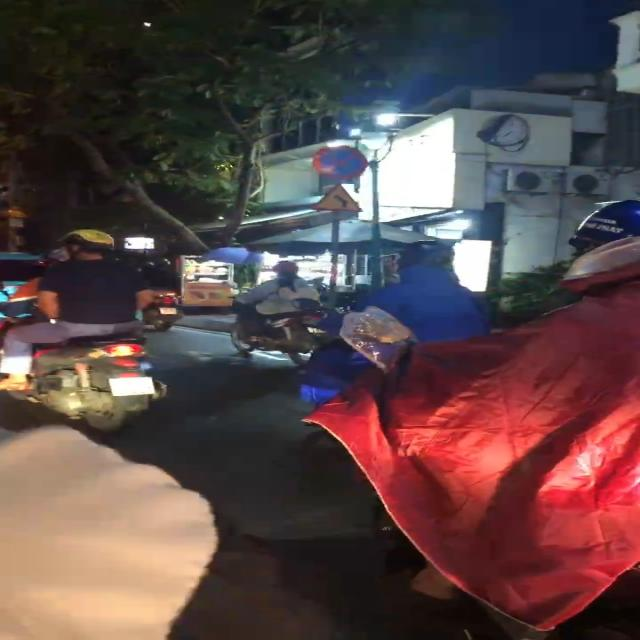Bien bao cho ngoat nguy hiem: (302, 180, 371, 215)
